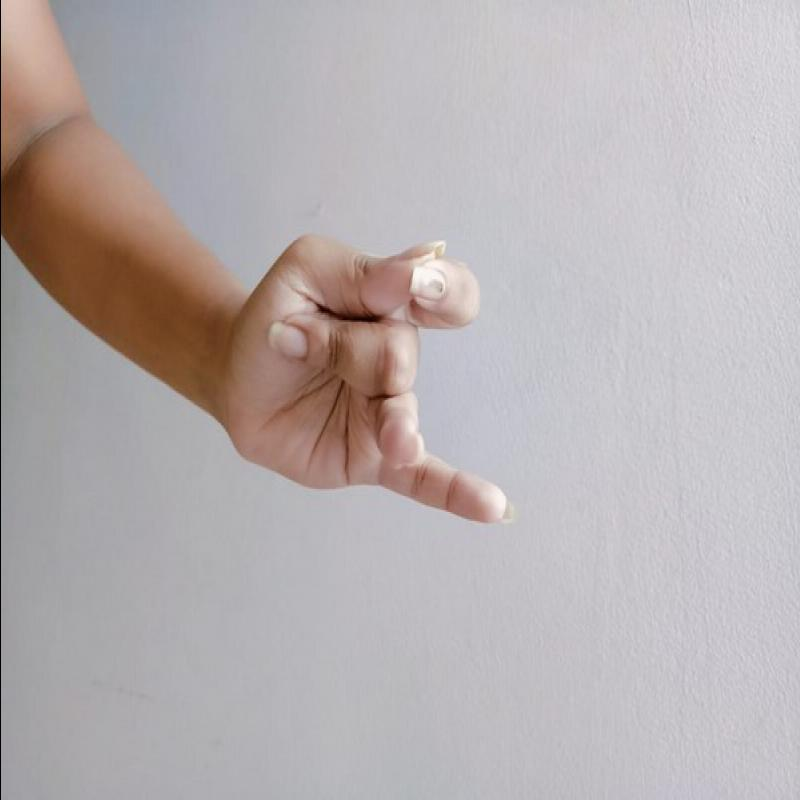Katakam: (205, 208, 542, 550)
